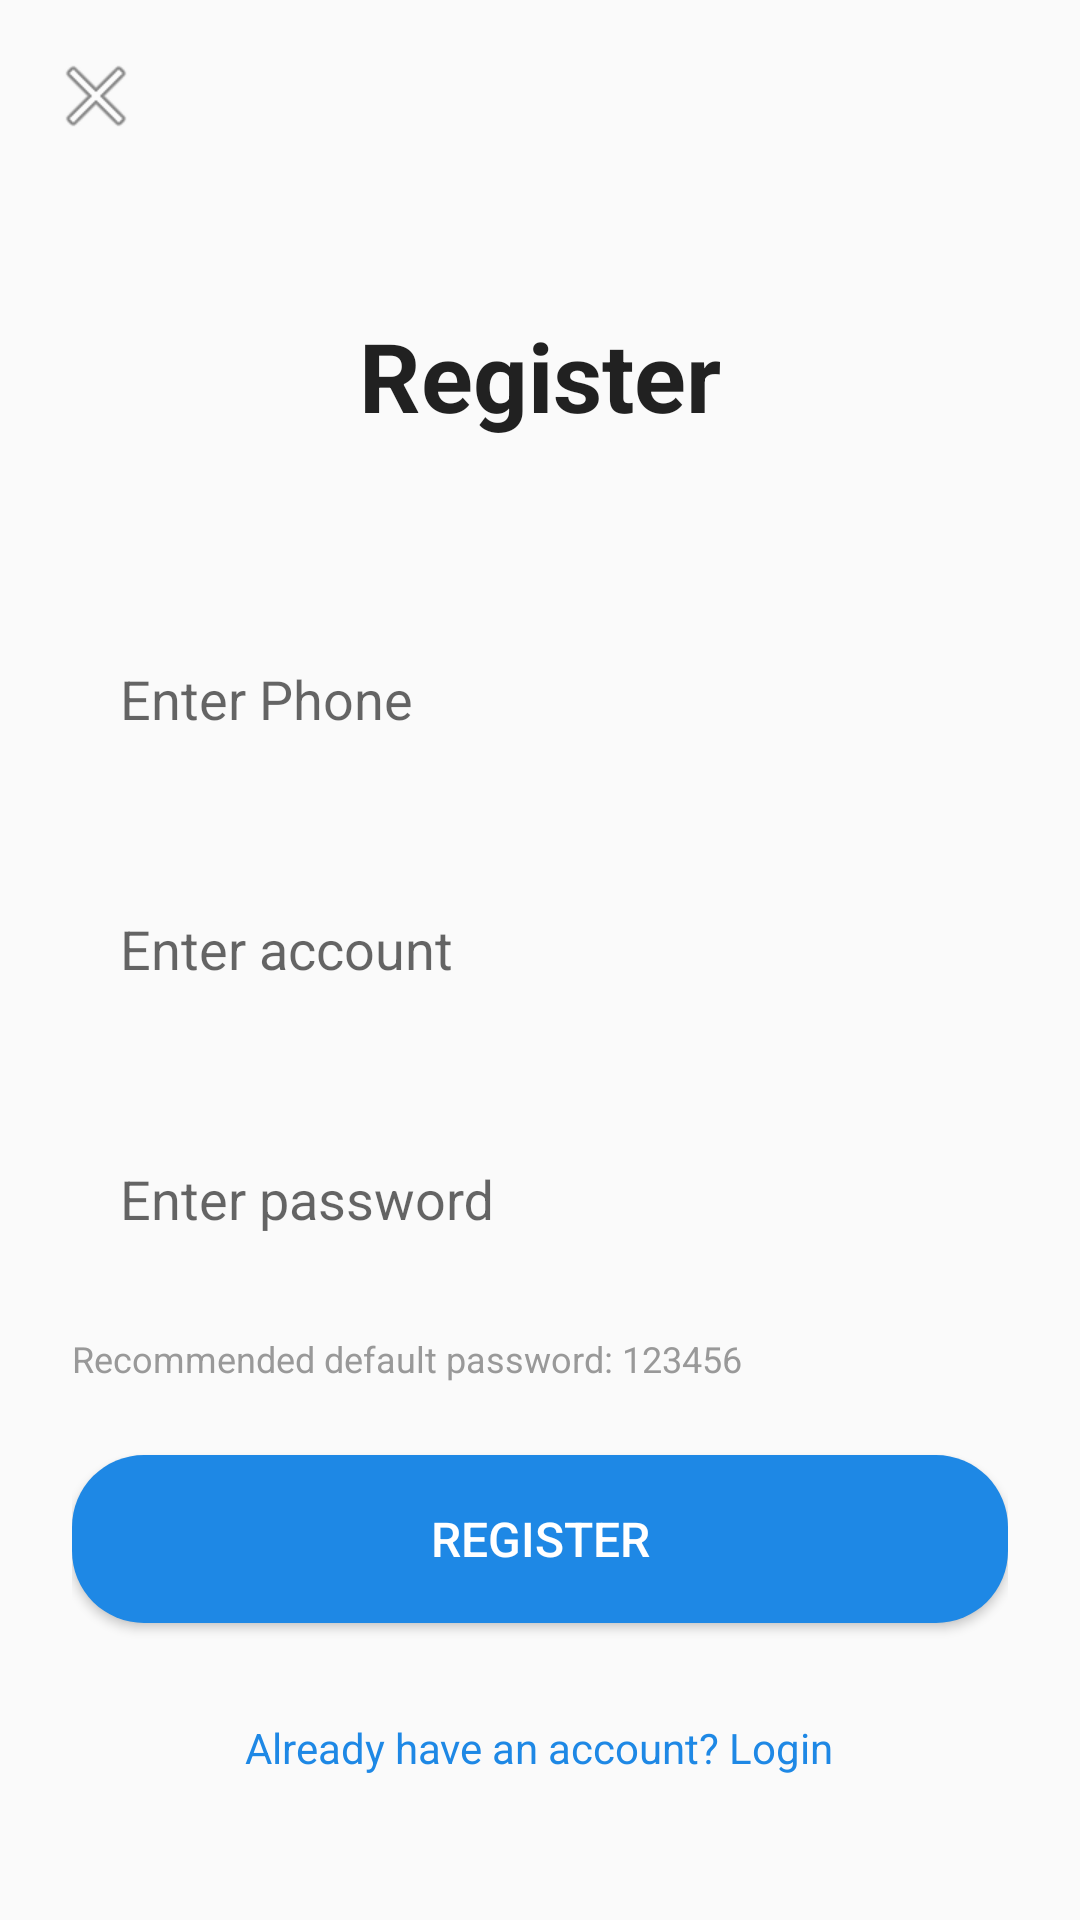

Icons on this 1080x1920 Android screen, each with the point to tap as [x,y]:
Back: [96,96]
